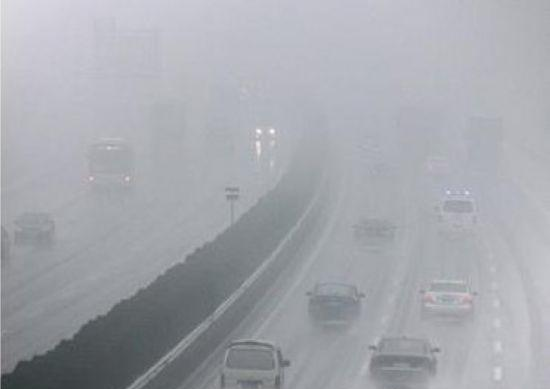bus: (81, 138, 138, 191)
car: (365, 329, 443, 389), (212, 337, 291, 389), (304, 279, 367, 330), (417, 278, 478, 326), (431, 187, 478, 240), (347, 212, 398, 249), (10, 208, 54, 244), (423, 154, 453, 176), (251, 118, 278, 141)
